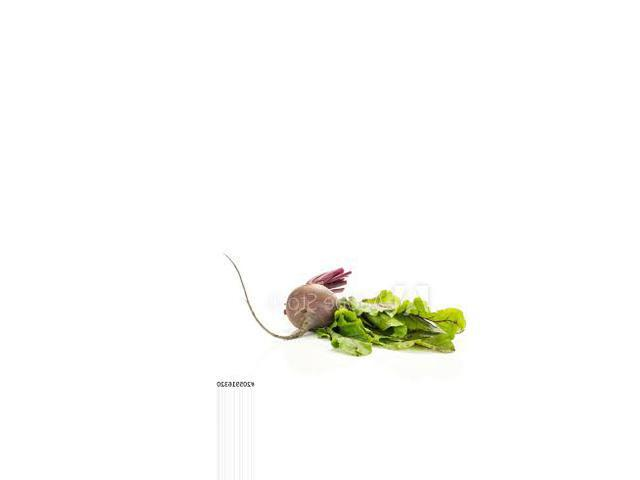beet: (221, 253, 353, 340)
